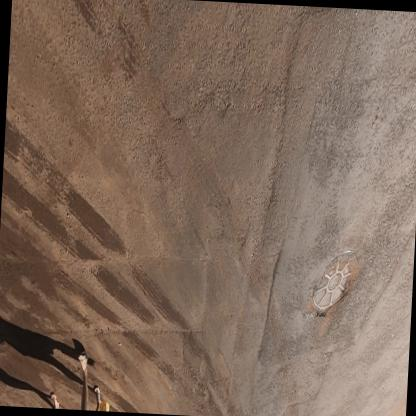manholes: (306, 238, 364, 323)
